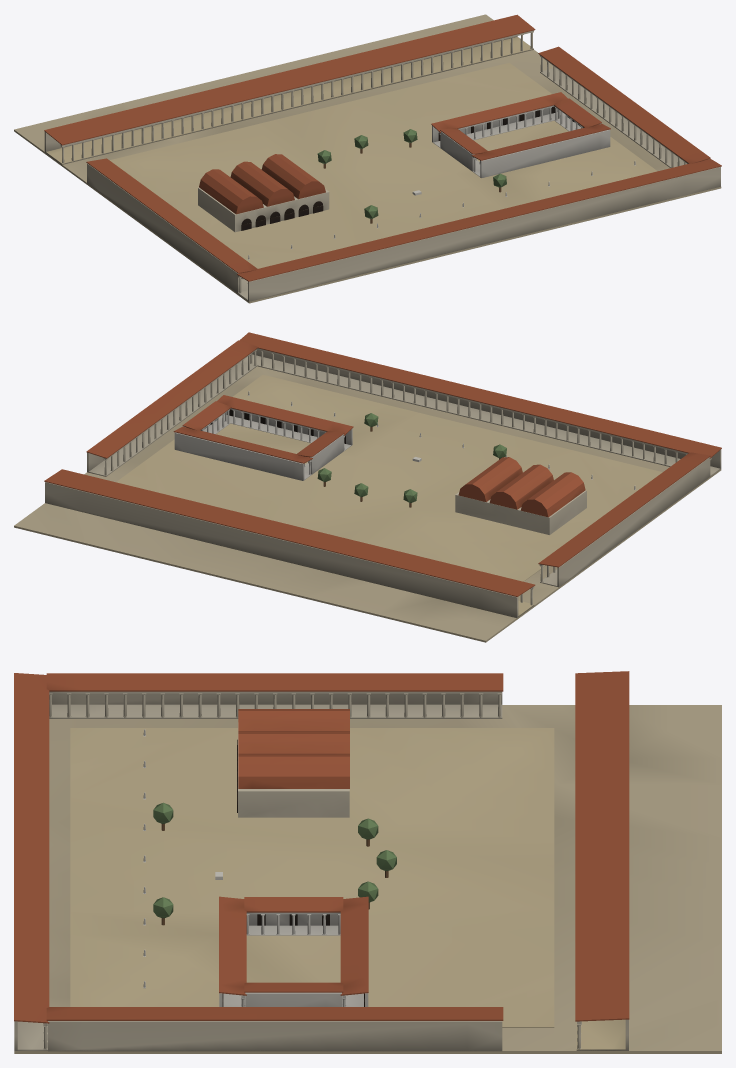
The model's file is gymnasium.glb.
The picture shows the model from 3 angles, top to bottom: view 1: azimuth 30°, elevation 25°; view 2: azimuth 150°, elevation 25°; view 3: azimuth 270°, elevation 25°; orthographic projection. The views are drawn at different scales.
Parts seen in each view (by area): view 1: p0_grounds, p1_porticoes, p2_palaestra, p3_statues; view 2: p0_grounds, p1_porticoes, p2_palaestra, p3_statues; view 3: p0_grounds, p1_porticoes, p2_palaestra, p3_statues.
Part boxes in pixels (box(x1,y1,x2,y2)): p0_grounds: box(14, 14, 721, 303); p1_porticoes: box(44, 14, 721, 301); p2_palaestra: box(198, 92, 610, 232); p3_statues: box(248, 129, 635, 259); p0_grounds: box(14, 366, 721, 642); p1_porticoes: box(44, 332, 721, 617); p2_palaestra: box(173, 395, 586, 534); p3_statues: box(248, 391, 635, 507); p0_grounds: box(14, 705, 721, 1053); p1_porticoes: box(14, 671, 629, 1051); p2_palaestra: box(219, 709, 368, 1006); p3_statues: box(143, 729, 396, 988).
Bounding box in the file's own units: 221 × 15.3 × 190.
